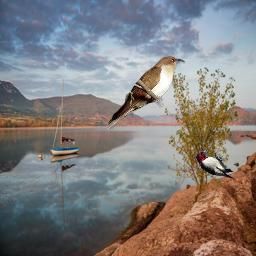Cuckoo: (108, 55, 185, 129)
Woodpecker: (194, 147, 236, 179)
